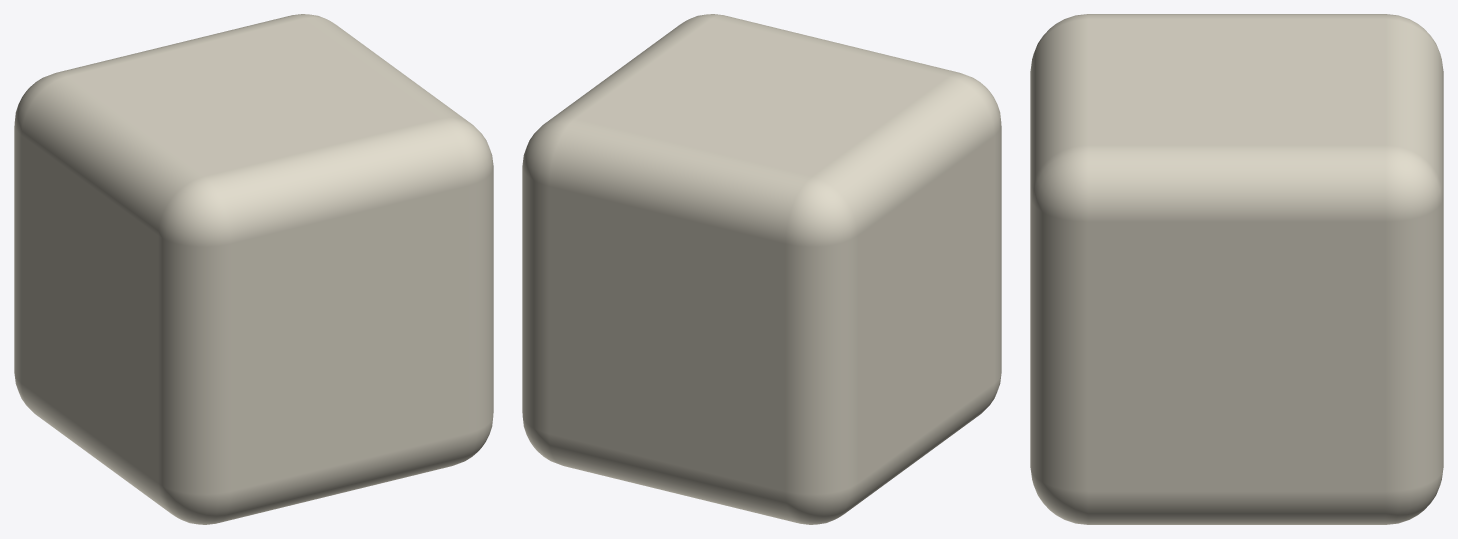
File: Rounded_Beveled_Cube_Low.obj
The picture shows the model from 3 angles, left to right: view 1: azimuth 30°, elevation 25°; view 2: azimuth 150°, elevation 25°; view 3: azimuth 270°, elevation 25°; orthographic projection. The views are drawn at different scales.
Parts seen in each view (by area): view 1: Rounded_Beveled_Cube_Low; view 2: Rounded_Beveled_Cube_Low; view 3: Rounded_Beveled_Cube_Low.
Boxes of the visible parts, x1,y1,x2,y2 form: Rounded_Beveled_Cube_Low: (14,14,493,524); Rounded_Beveled_Cube_Low: (522,14,1001,524); Rounded_Beveled_Cube_Low: (1030,14,1443,524).
Bounding box in the file's own units: 1 × 1 × 1.
